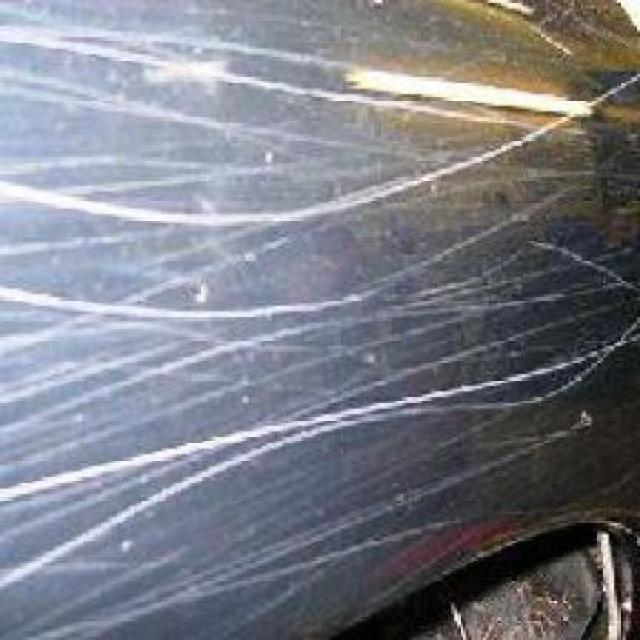dent-or-scratch: (20, 34, 637, 586)
